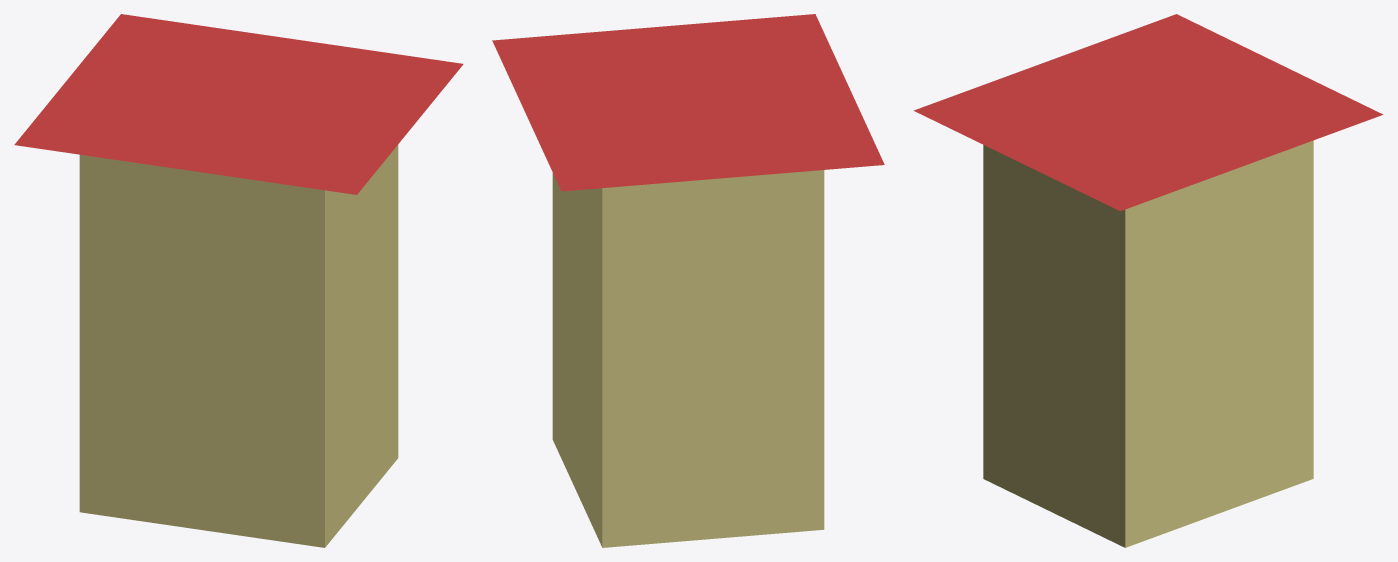
3 renders of one model, left to right at view 1: azimuth 30°, elevation 25°; view 2: azimuth 150°, elevation 25°; view 3: azimuth 270°, elevation 25°, orthographic. The views are drawn at different scales.
Bounding box in the file's own units: 9.42 × 9.49 × 8.15.
